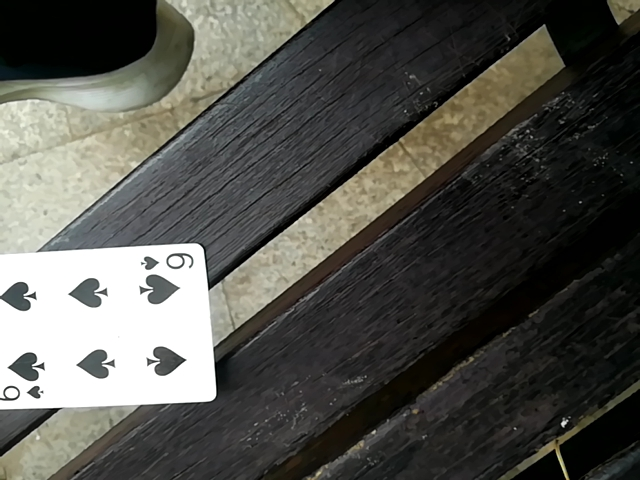ht 6: (0, 246, 210, 423)
